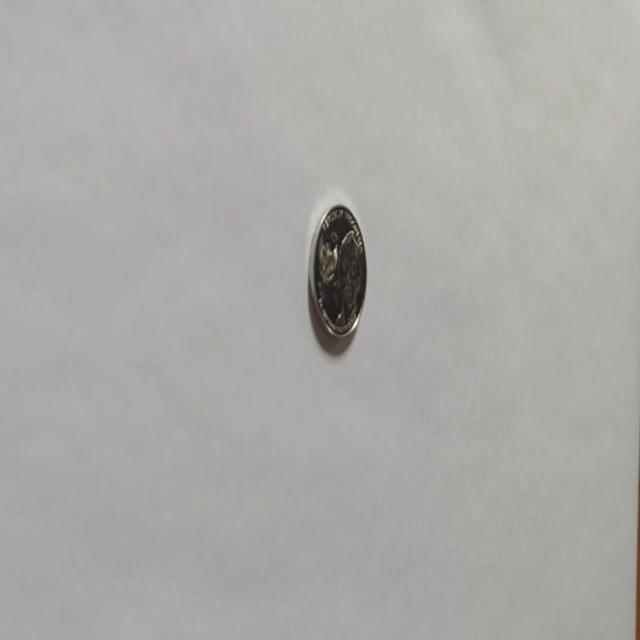dua ratus rupiah: (308, 202, 367, 340)
